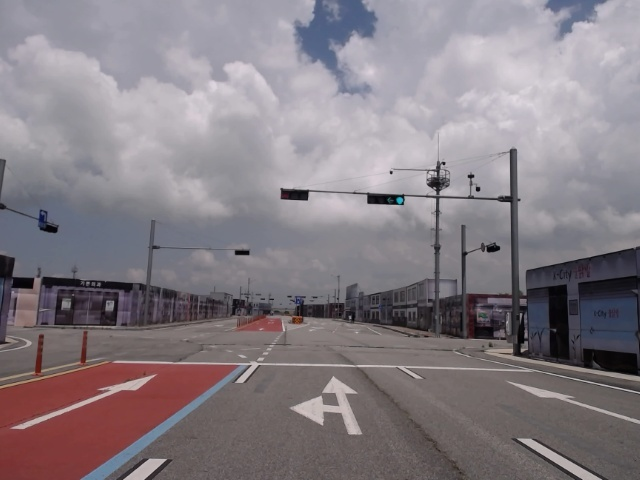all_green_4: (367, 194, 404, 206)
